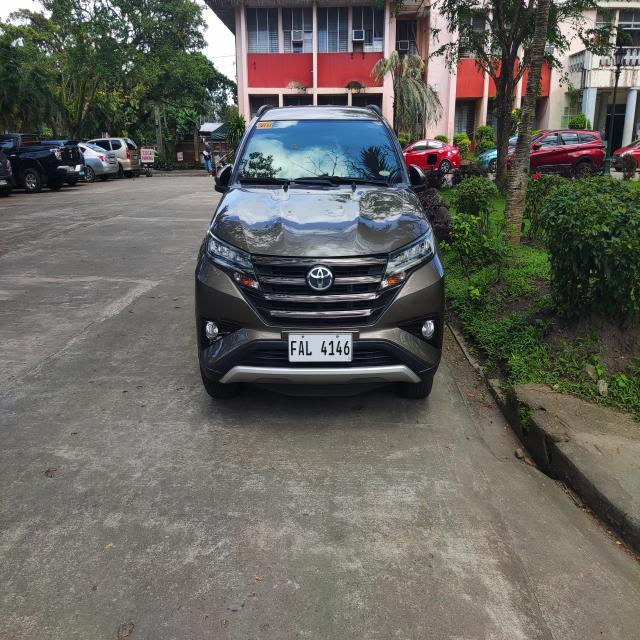LicensePlate: (278, 328, 356, 369)
